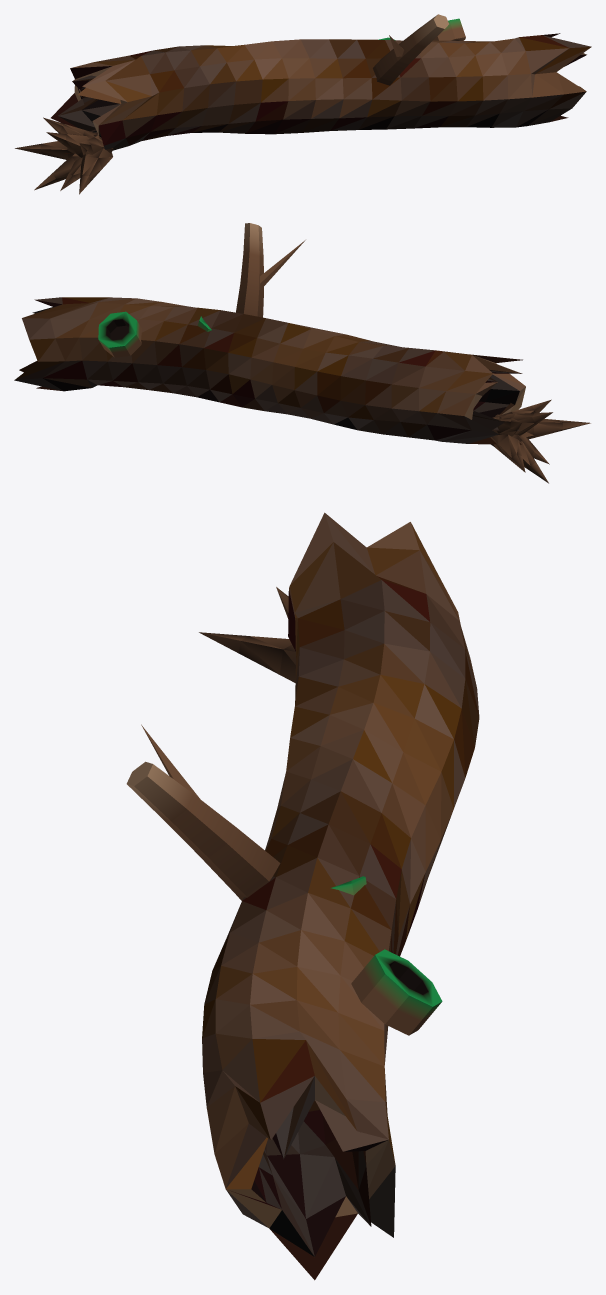
File: pohon_tumbang_uprooted_rainforest_357029.glb
3 views of the same model, one above another, from view 1: azimuth 30°, elevation 25°; view 2: azimuth 150°, elevation 25°; view 3: azimuth 270°, elevation 25° (orthographic). The views are drawn at different scales.
Parts seen in each view (by area): view 1: Tunggul_Akar_Tumbang; view 2: Tunggul_Akar_Tumbang; view 3: Tunggul_Akar_Tumbang.
Boxes of the visible parts, left/top/right/bottom form: Tunggul_Akar_Tumbang: left=15, top=14, right=591, bottom=194; Tunggul_Akar_Tumbang: left=14, top=223, right=590, bottom=483; Tunggul_Akar_Tumbang: left=126, top=512, right=479, bottom=1280.
Bounding box in the file's own units: 6.98 × 2.19 × 2.
